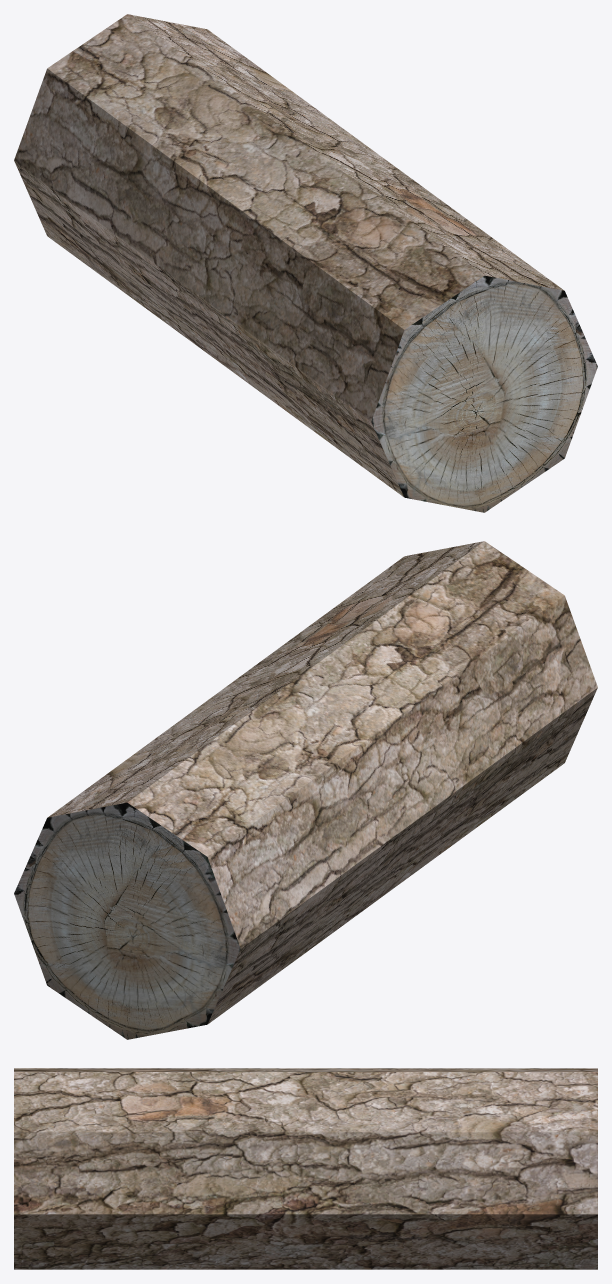
The model's file is Logg.fbx.
3 views of the same model, one above another, from view 1: azimuth 30°, elevation 25°; view 2: azimuth 150°, elevation 25°; view 3: azimuth 270°, elevation 25° (orthographic). The views are drawn at different scales.
Visible parts, largest first — view 1: Cylinder; view 2: Cylinder; view 3: Cylinder.
Boxes of the visible parts, left/top/right/bottom form: Cylinder: left=14, top=14, right=597, bottom=512; Cylinder: left=14, top=541, right=597, bottom=1039; Cylinder: left=14, top=1068, right=597, bottom=1269.
Size of the model in its own units: 80 by 80 by 218.
2 materials, 2 textured.
